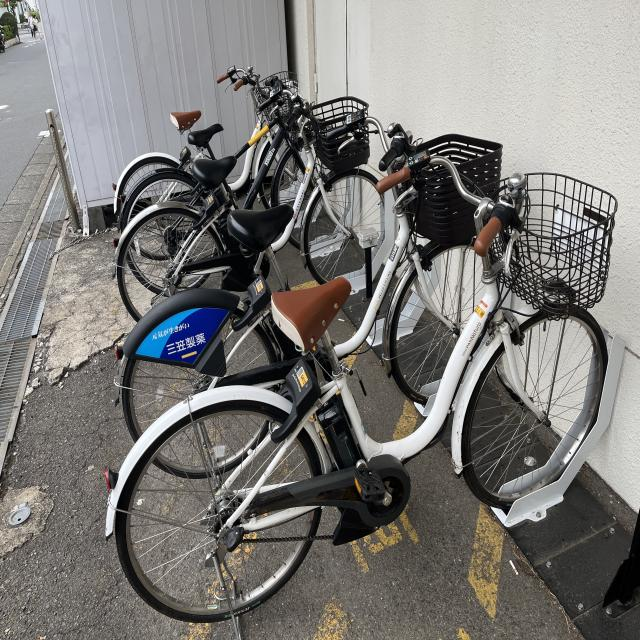basket: (471, 171, 618, 318), (306, 97, 372, 173)
battery: (315, 401, 364, 473)
